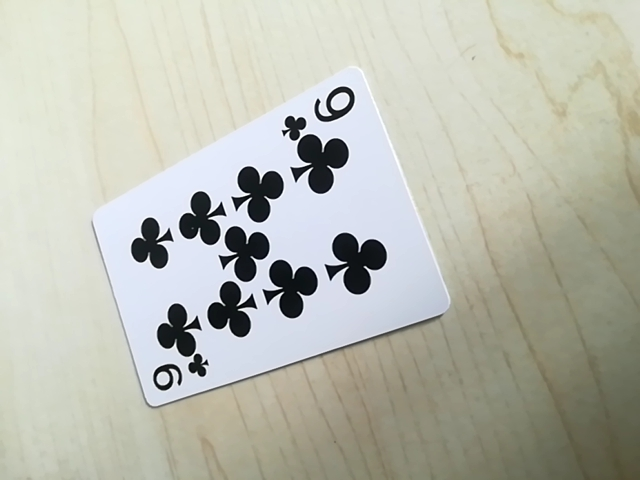mh 9: (277, 81, 363, 135), (140, 354, 212, 401)
